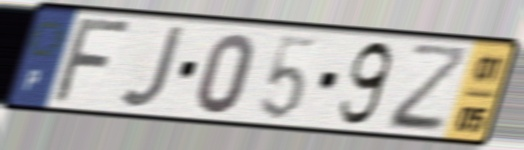0: (191, 28, 257, 118)
5: (256, 32, 321, 122)
9: (337, 39, 394, 128)
F: (48, 17, 138, 106)
J: (118, 24, 189, 112)
Z: (385, 42, 472, 136)
